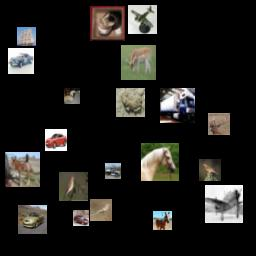airplane: (205, 185, 243, 223), (128, 5, 157, 34)
automobile: (18, 205, 47, 234), (8, 48, 34, 74), (45, 129, 67, 151), (73, 210, 89, 226)
bird: (59, 172, 88, 201), (199, 159, 221, 181), (90, 199, 112, 221)
cat: (90, 6, 125, 41)
deer: (121, 45, 156, 80), (208, 113, 230, 135)
dog: (64, 88, 80, 104)
frog: (116, 88, 145, 117)
ship: (17, 27, 36, 46)
truck: (160, 88, 195, 123), (105, 163, 121, 179)
